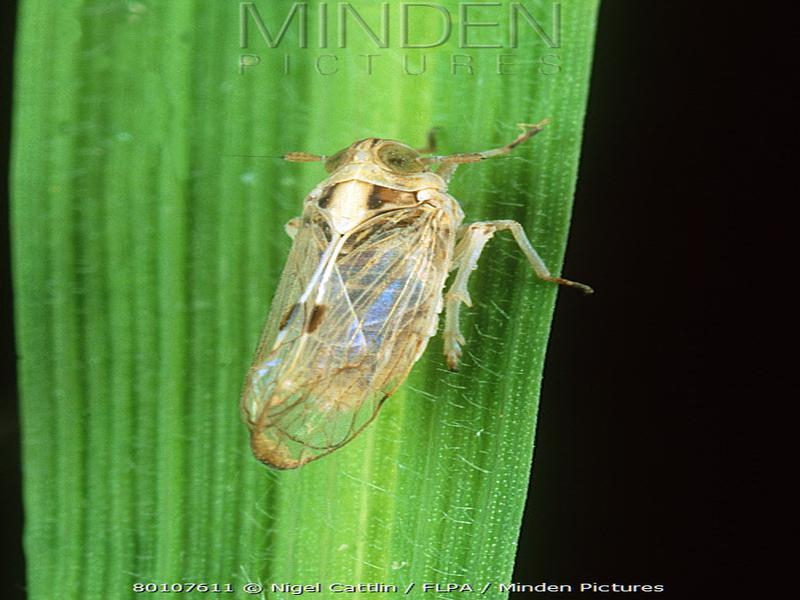White_backed_plant_hopper: (207, 136, 583, 471)
